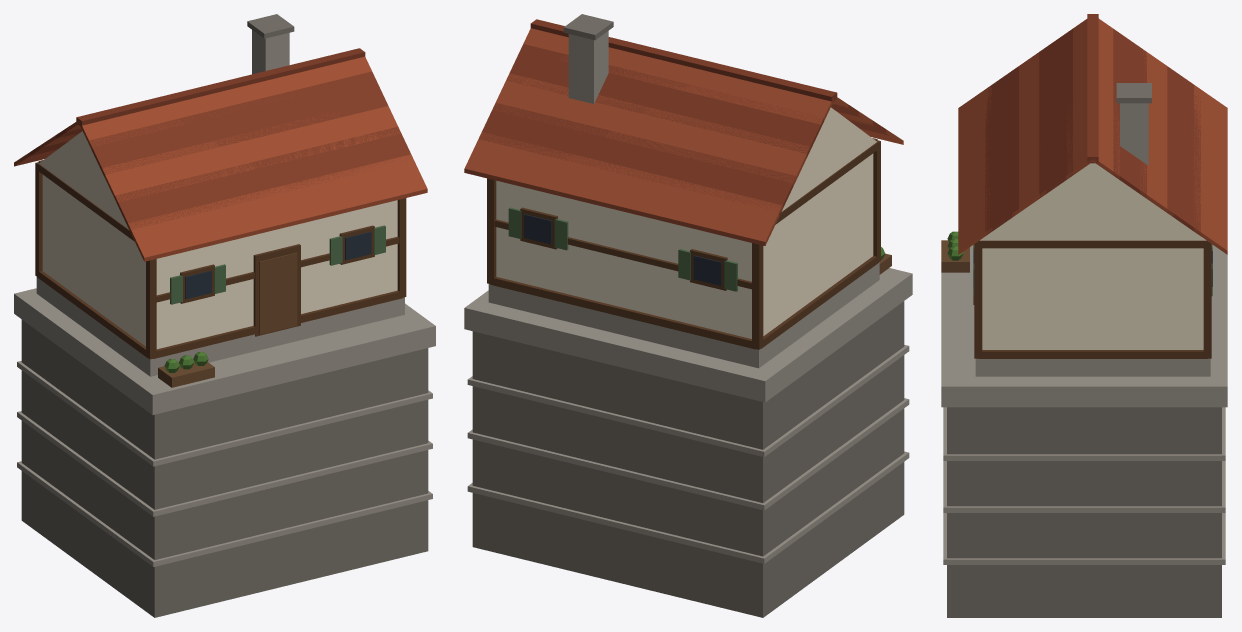
Rendered from house.glb.
3 renders of one model, left to right at view 1: azimuth 30°, elevation 25°; view 2: azimuth 150°, elevation 25°; view 3: azimuth 270°, elevation 25°, orthographic. The views are drawn at different scales.
Parts seen in each view (by area): view 1: house; view 2: house; view 3: house.
Boxes of the visible parts, x1=… form: house: x1=14, y1=14, x2=435, y2=617; house: x1=464, y1=14, x2=912, y2=617; house: x1=941, y1=14, x2=1227, y2=617.
Bounding box in the file's own units: 5.9 × 9.5 × 5.
